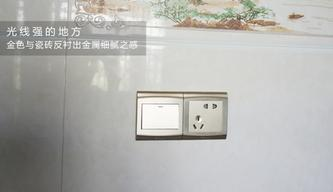switch: (139, 100, 183, 133)
